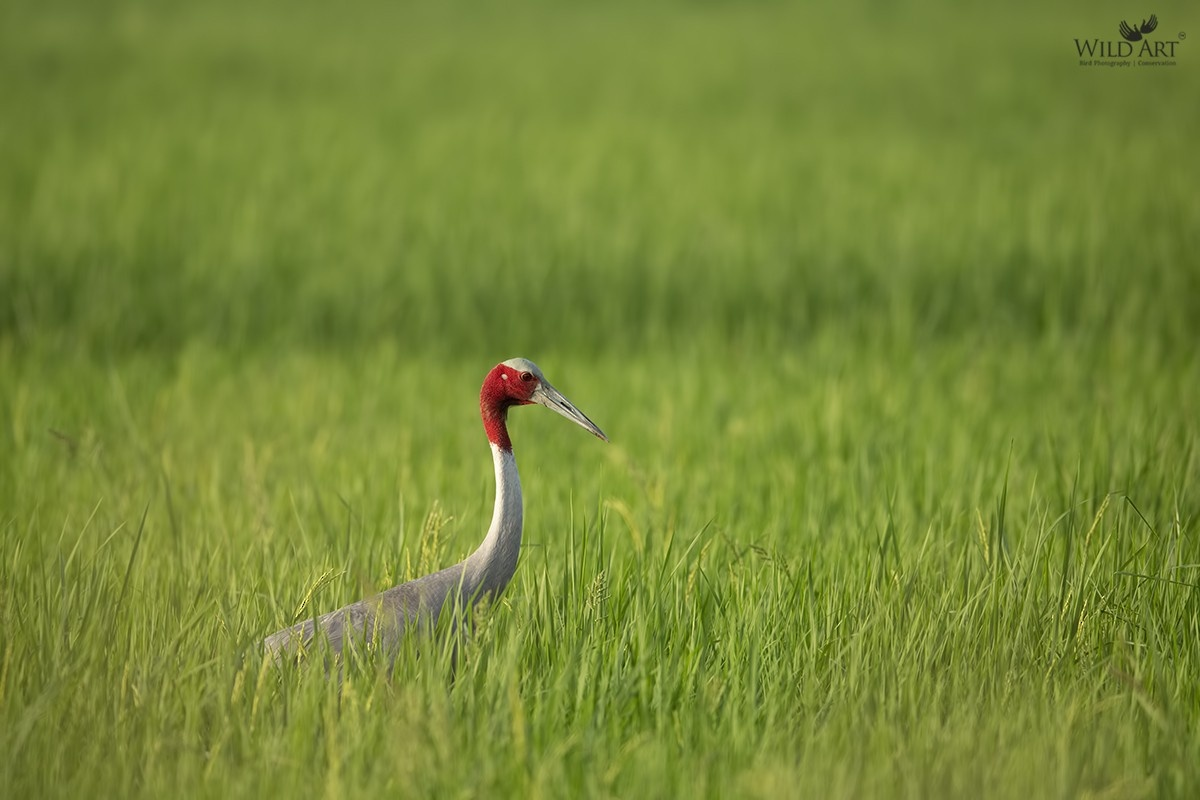crane: (245, 350, 619, 659)
